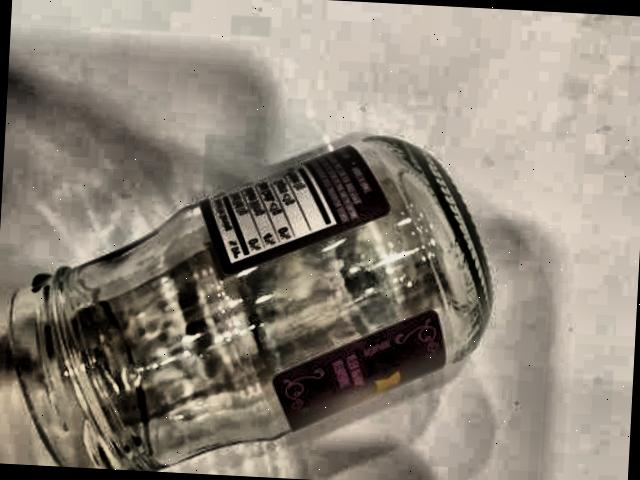Almennt: (0, 113, 516, 480)
